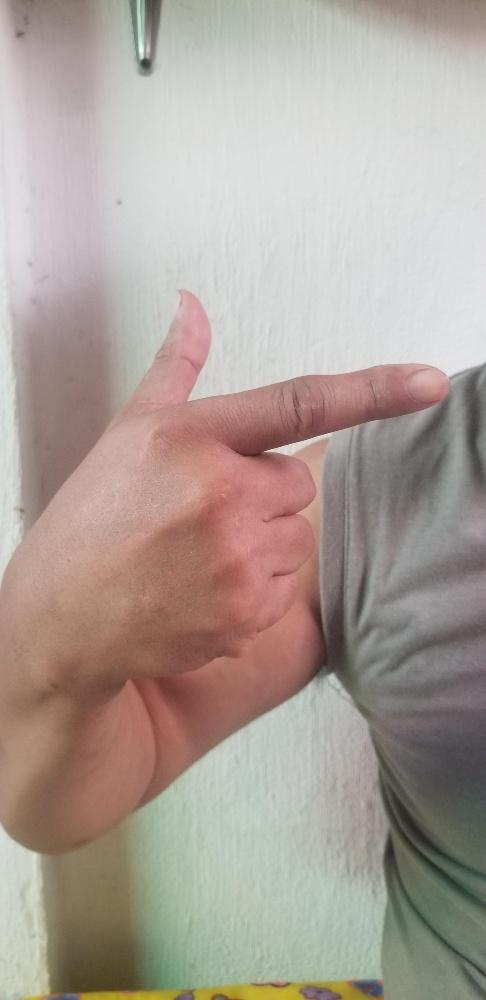g: (35, 285, 449, 683)
